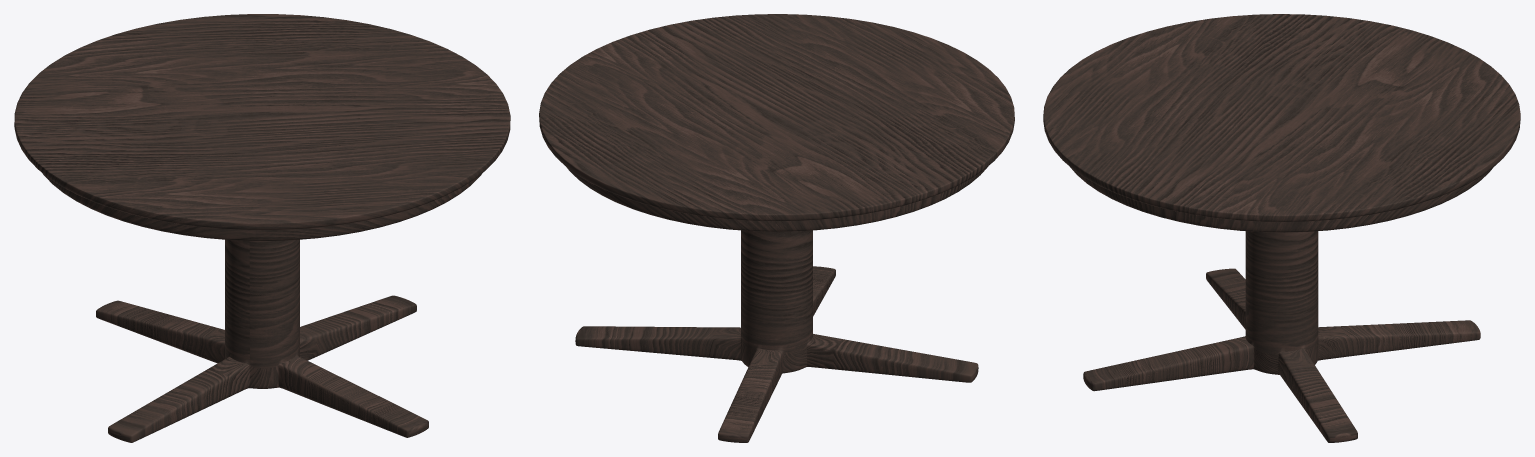
Rendered from round_table.obj.
3 views of the same model, side by side, from view 1: azimuth 30°, elevation 25°; view 2: azimuth 150°, elevation 25°; view 3: azimuth 270°, elevation 25° (orthographic). The views are drawn at different scales.
Parts seen in each view (by area): view 1: round_table_dark_wood_0_dark_wood; view 2: round_table_dark_wood_0_dark_wood; view 3: round_table_dark_wood_0_dark_wood.
Boxes of the visible parts, x1=… form: round_table_dark_wood_0_dark_wood: x1=14, y1=14, x2=510, y2=442; round_table_dark_wood_0_dark_wood: x1=539, y1=14, x2=1014, y2=442; round_table_dark_wood_0_dark_wood: x1=1043, y1=14, x2=1520, y2=442.
Bounding box in the file's own units: 1.67 × 0.948 × 1.67.
Materials: 1 (1 with a texture image).
